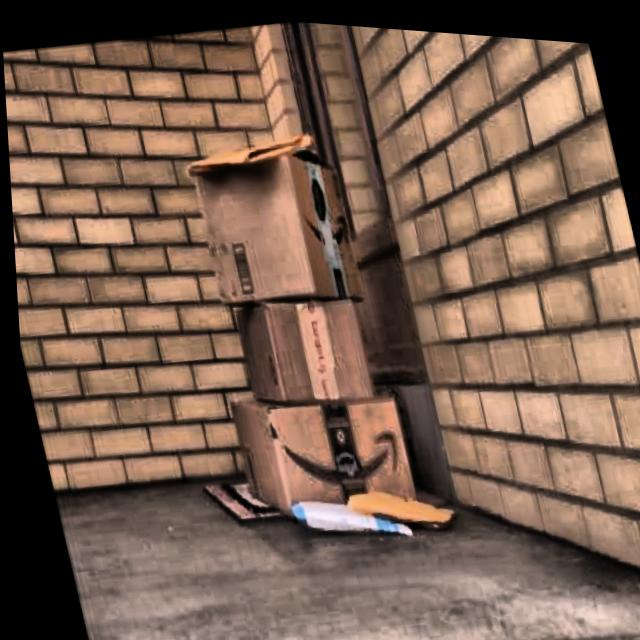Cardbox: (187, 354, 451, 564), (170, 118, 363, 320), (191, 256, 401, 439)
